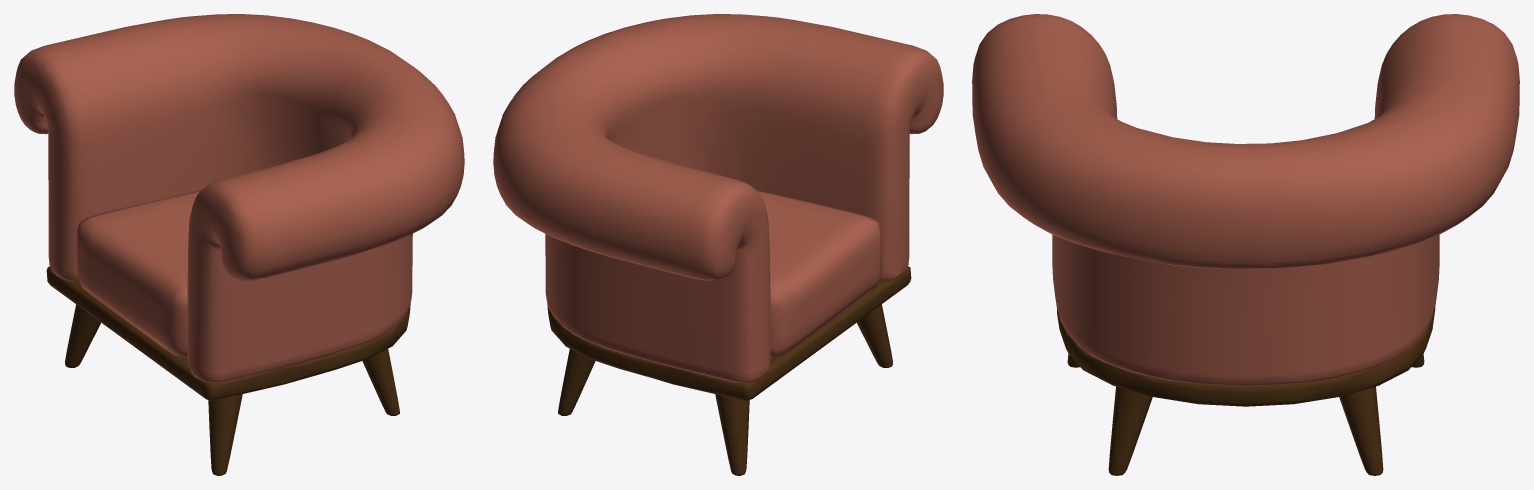
The model's file is armchair_09_red.fbx.
The picture shows the model from 3 angles, left to right: view 1: azimuth 30°, elevation 25°; view 2: azimuth 150°, elevation 25°; view 3: azimuth 270°, elevation 25°; orthographic projection. The views are drawn at different scales.
Parts seen in each view (by area): view 1: armchair_09_red; view 2: armchair_09_red; view 3: armchair_09_red.
Boxes of the visible parts, bbox=[...] form: armchair_09_red: bbox=[14, 14, 464, 475]; armchair_09_red: bbox=[493, 14, 943, 475]; armchair_09_red: bbox=[972, 14, 1519, 475].
Bounding box in the file's own units: 106 × 102 × 145.
Materials: 2 (2 with a texture image).
